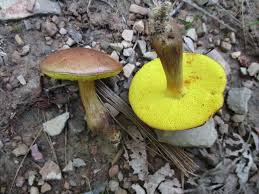boletus_poisinous: (124, 49, 239, 134), (24, 26, 126, 94)
